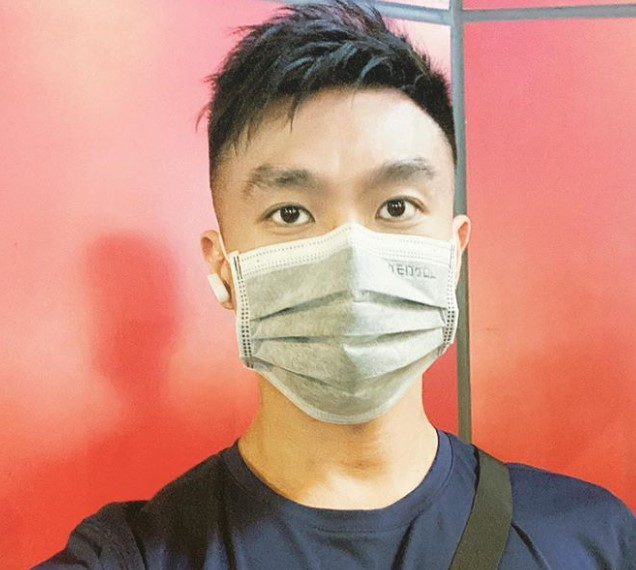face_with_mask: (192, 10, 476, 424)
